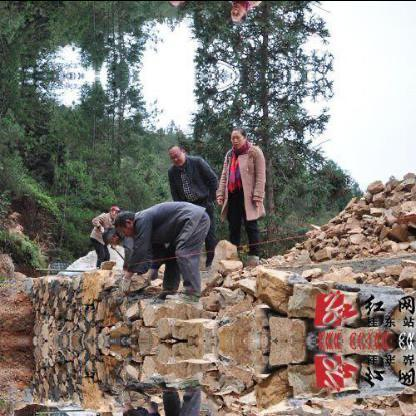No Helmet: (164, 138, 186, 166), (113, 209, 137, 233), (228, 122, 248, 148), (228, 0, 248, 26), (100, 228, 118, 244), (164, 0, 186, 10)
